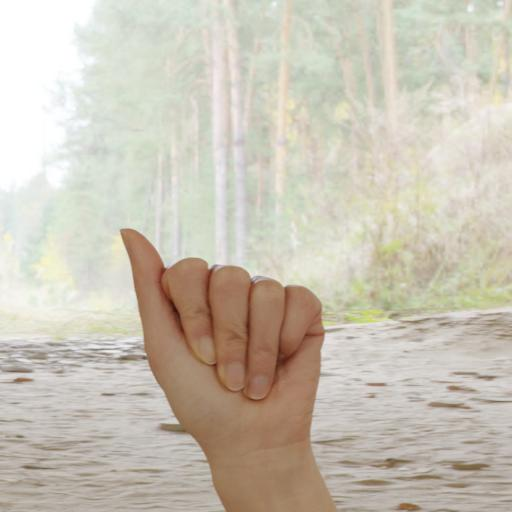A: (112, 216, 346, 512)
